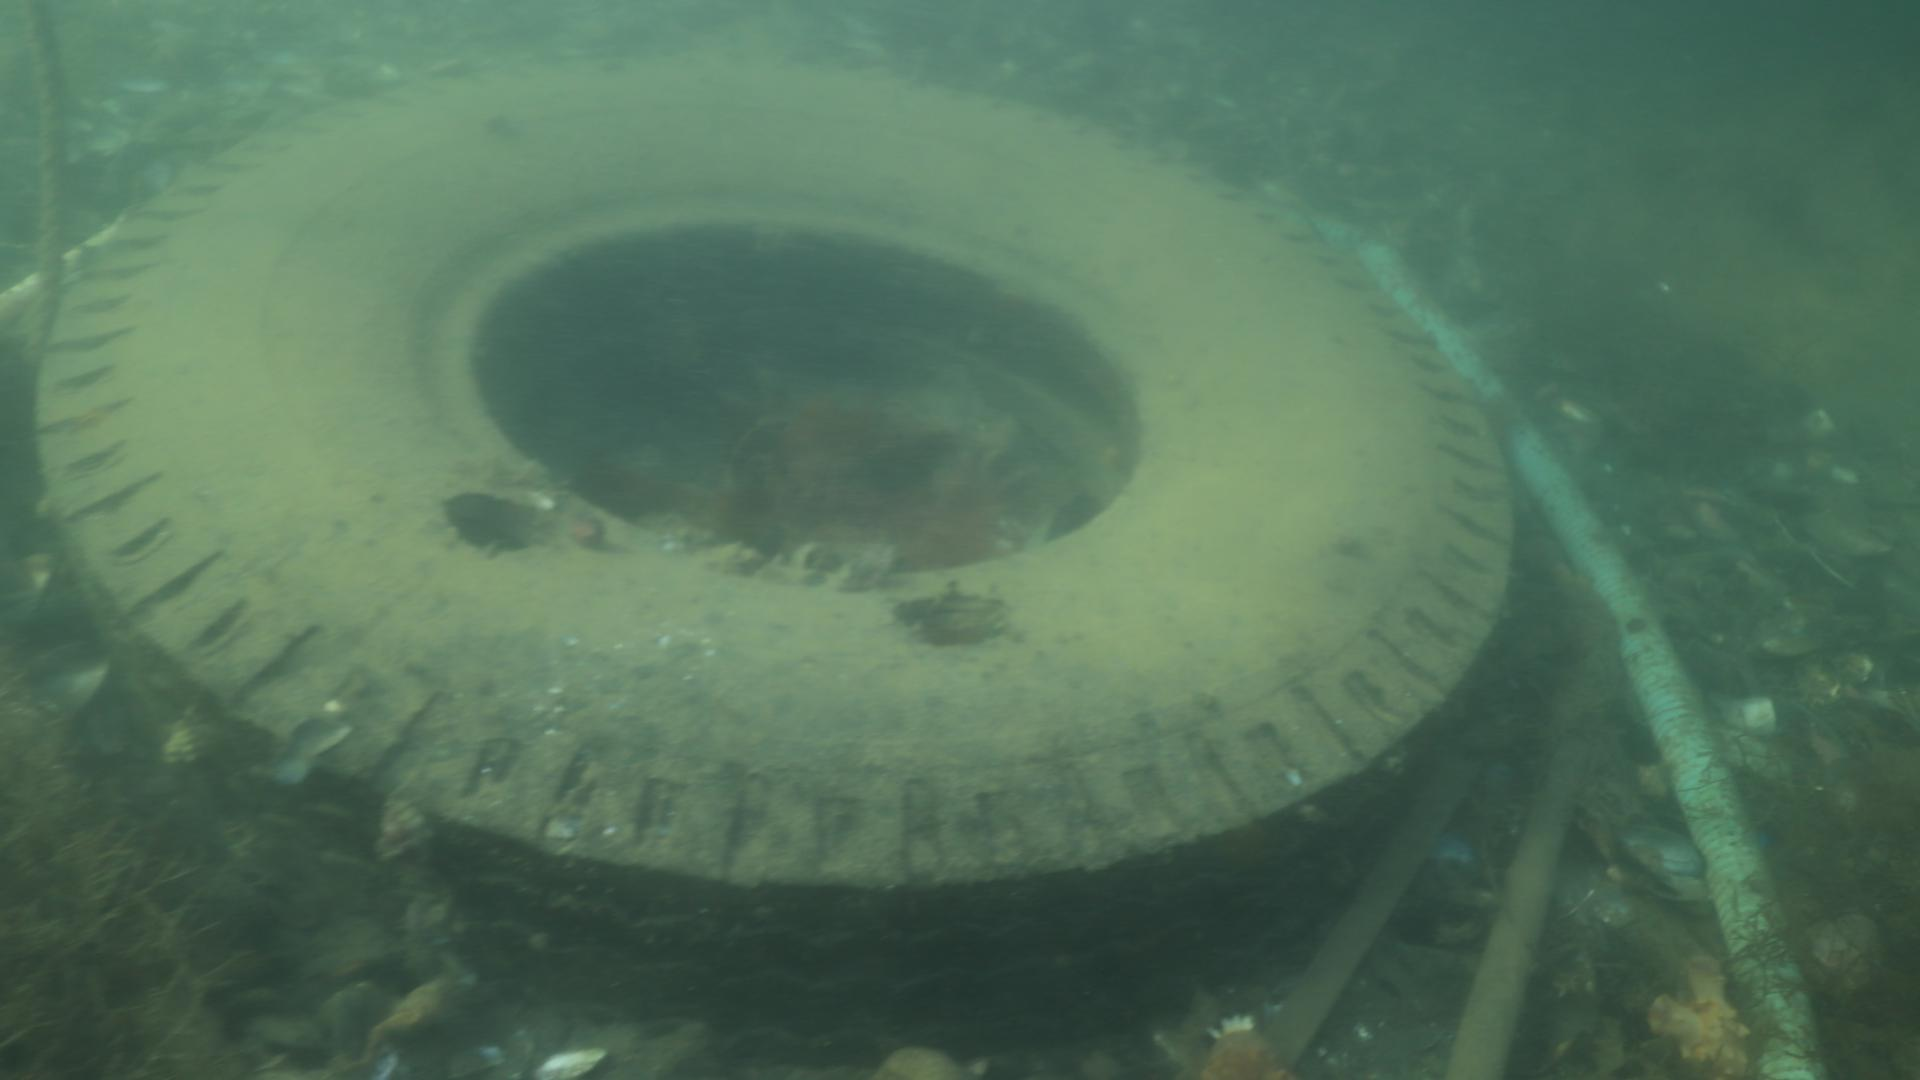tire: (30, 58, 1516, 1068)
